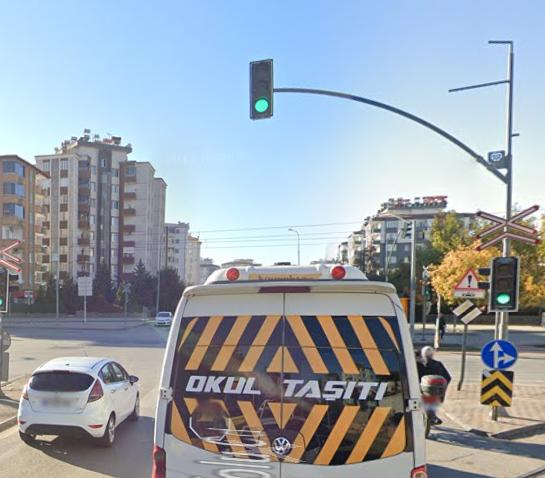greenlight: (247, 55, 279, 123), (489, 253, 521, 314)
